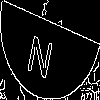N: (25, 24, 57, 81)
